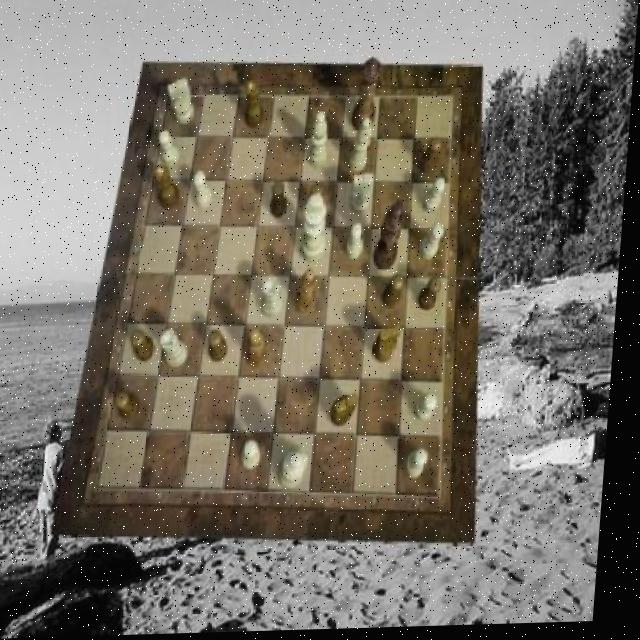bishop: (298, 270, 321, 316), (249, 330, 274, 371)
black-bishop: (376, 201, 409, 272)
black-king: (377, 327, 406, 368), (335, 395, 364, 430)
black-knight: (385, 276, 410, 311), (421, 139, 444, 177), (118, 392, 146, 423), (134, 331, 160, 364), (421, 280, 446, 314), (307, 184, 327, 222), (212, 332, 234, 365), (273, 182, 292, 220)
black-pawn: (352, 59, 382, 134)
black-queen: (154, 165, 184, 211), (245, 83, 267, 131)
black-rook: (350, 119, 374, 174), (311, 114, 333, 170)
white-bishop: (303, 195, 331, 265)
white-king: (166, 80, 196, 126), (351, 176, 377, 218)
white-knight: (423, 226, 448, 263), (158, 131, 183, 168), (194, 172, 218, 210), (425, 180, 449, 215), (349, 223, 368, 261), (411, 452, 435, 482), (419, 397, 444, 425), (247, 443, 267, 472)
white-pawn: (283, 447, 315, 490)
white-queen: (164, 330, 194, 369), (265, 279, 288, 319)
